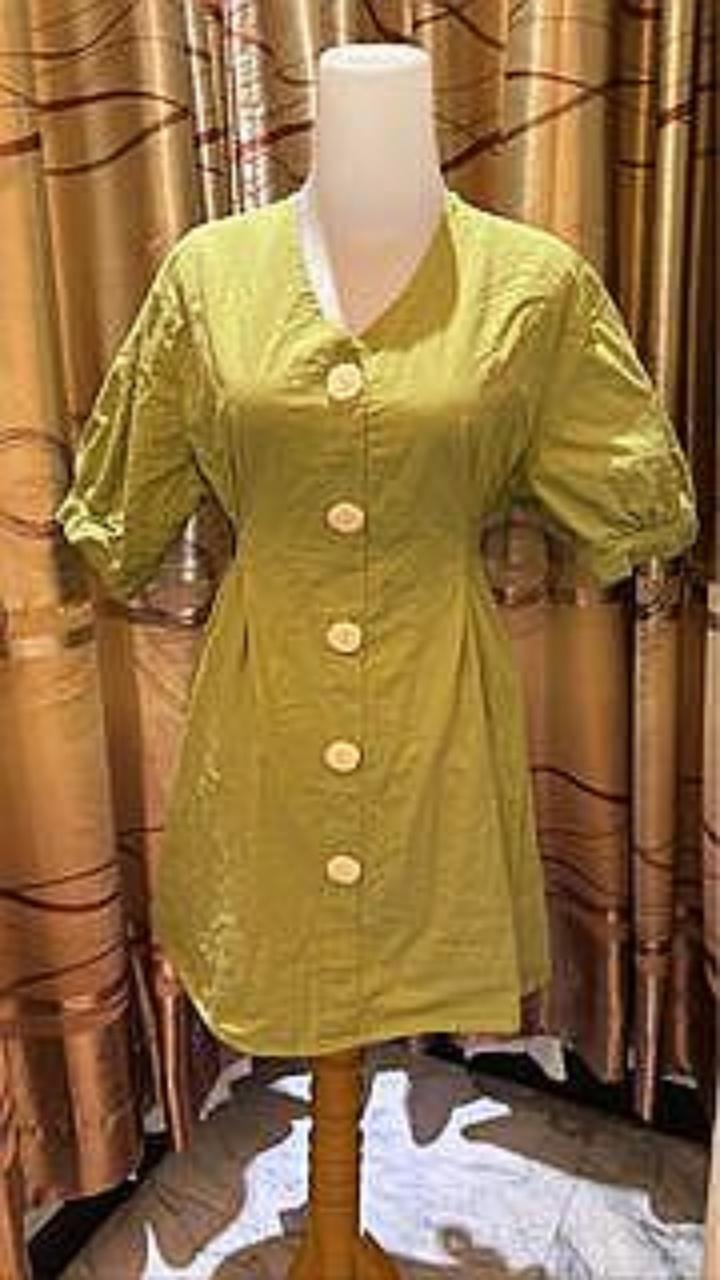Dresses: (56, 191, 696, 1055)
